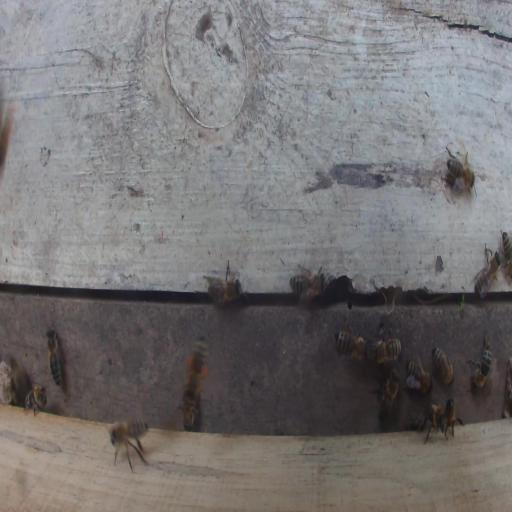bee: (108, 418, 149, 473), (289, 263, 328, 311), (472, 240, 502, 301), (370, 368, 401, 422), (333, 321, 369, 366), (184, 334, 208, 400), (466, 333, 493, 389), (418, 400, 450, 446), (205, 272, 243, 308), (371, 320, 402, 364), (444, 151, 477, 191), (404, 350, 433, 395), (181, 377, 204, 432), (46, 326, 62, 388), (431, 347, 455, 387), (23, 384, 47, 418), (445, 398, 465, 438), (498, 228, 511, 278)
